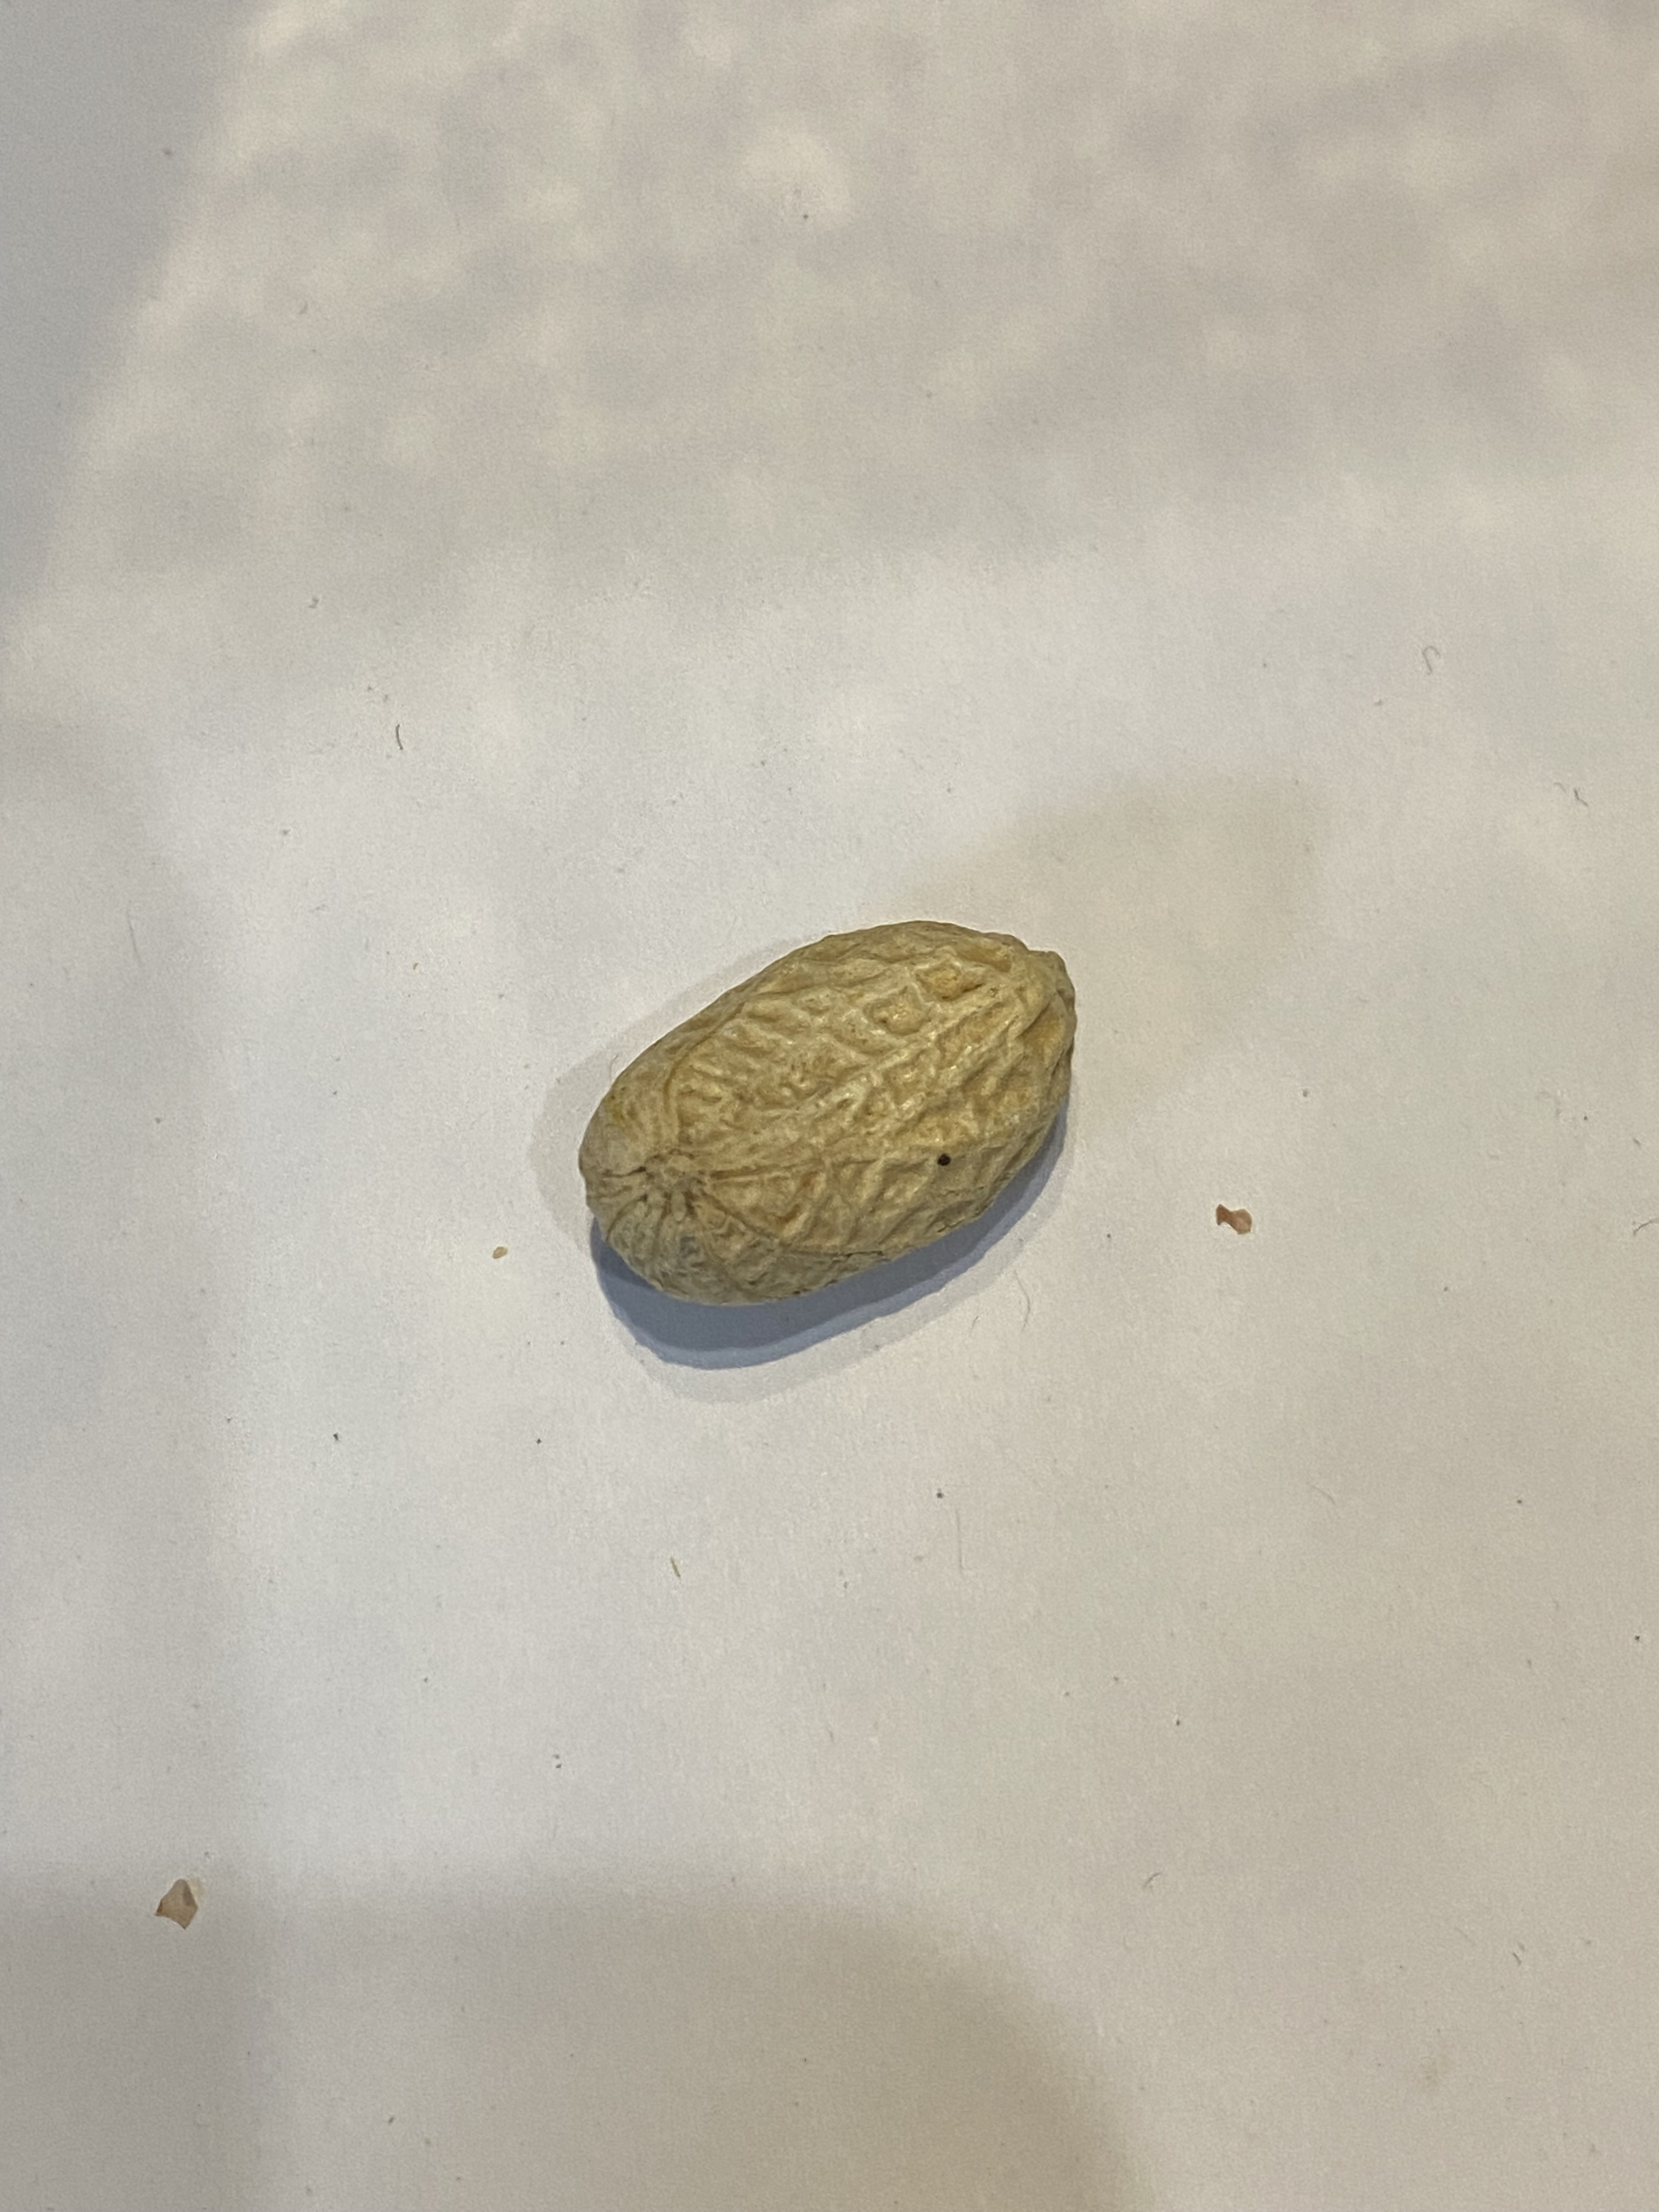kacang1: (505, 880, 1150, 1312)
